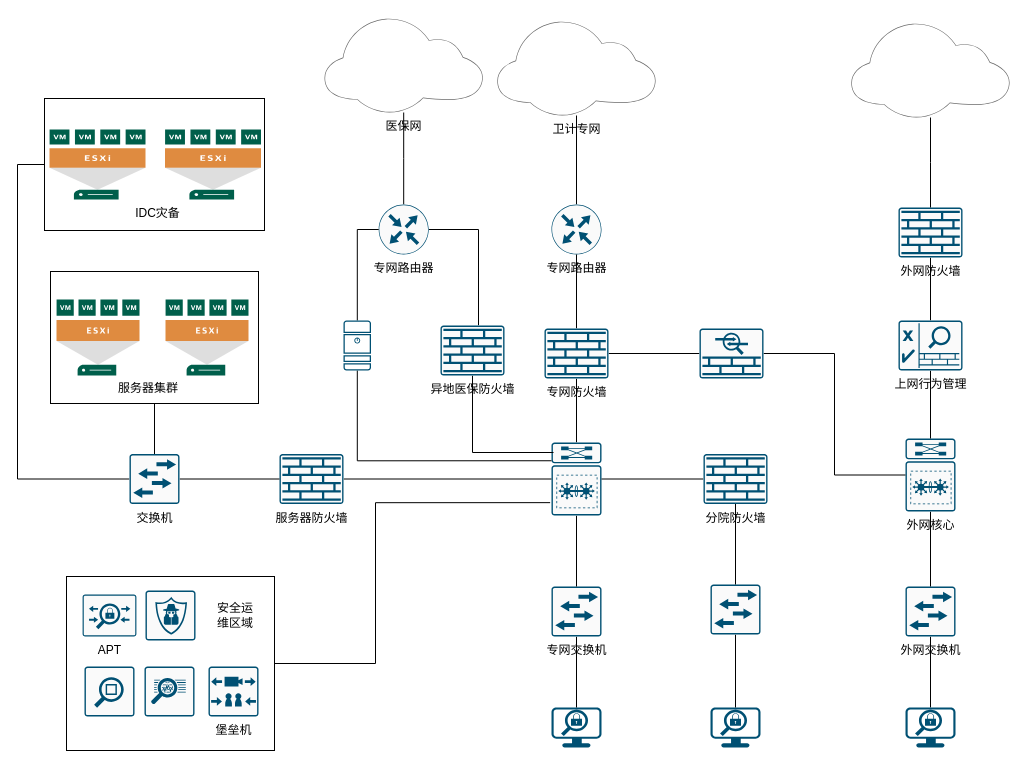
The diagram is 1027 pixels wide and 768 high, and some of its shapes have lost their labels. The shapes that lost their labels are listed below. From the top down, each one's centre as x and y in pixels, then its label:
the point at 930,69: 互联网
the point at 356,345: 医保服务器
the point at 731,353: 网闸
the point at 576,479: 专网核心
the point at 170,615: 杀毒软件
the point at 735,609: 分院交换机
the point at 109,691: 日志审计
the point at 169,691: 数据库审计
